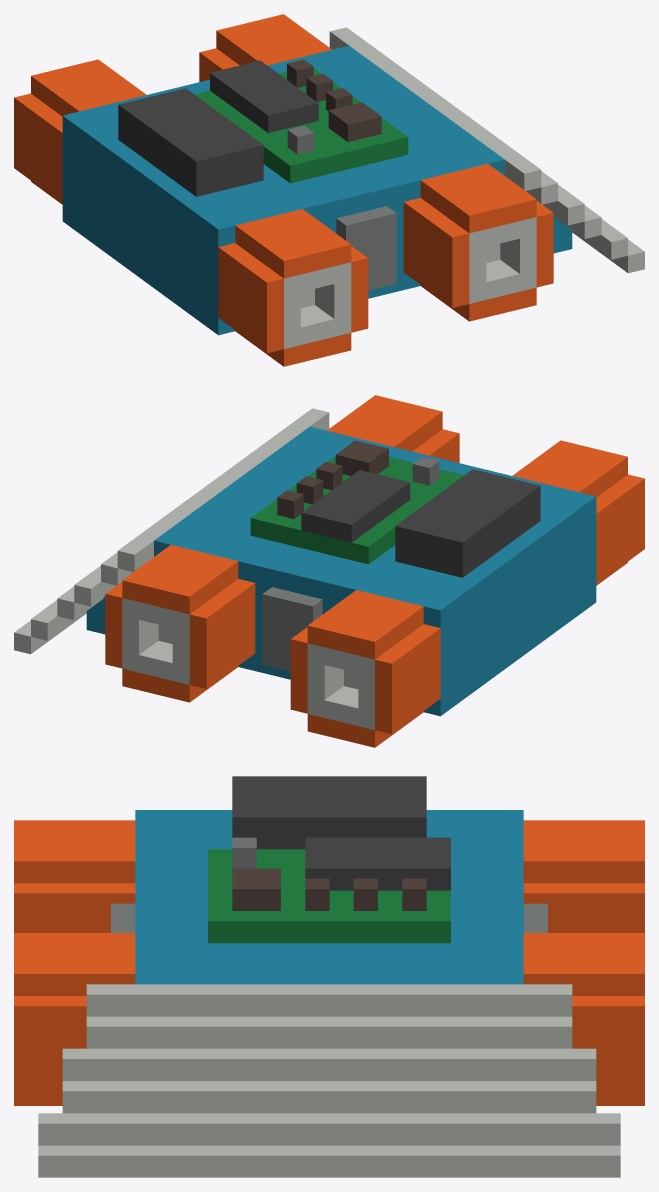
The model's file is sumo_bot.glb.
3 renders of one model, top to bottom at view 1: azimuth 30°, elevation 25°; view 2: azimuth 150°, elevation 25°; view 3: azimuth 270°, elevation 25°, orthographic. The views are drawn at different scales.
Parts seen in each view (by area): view 1: Node; view 2: Node; view 3: Node.
Part boxes in pixels (x1=…): Node: x1=14, y1=14, x2=644, y2=366; Node: x1=14, y1=395, x2=644, y2=747; Node: x1=14, y1=776, x2=644, y2=1177.
Bounding box in the file's own units: 2.3 × 0.8 × 2.6.
Materials: 1 (1 with a texture image).
